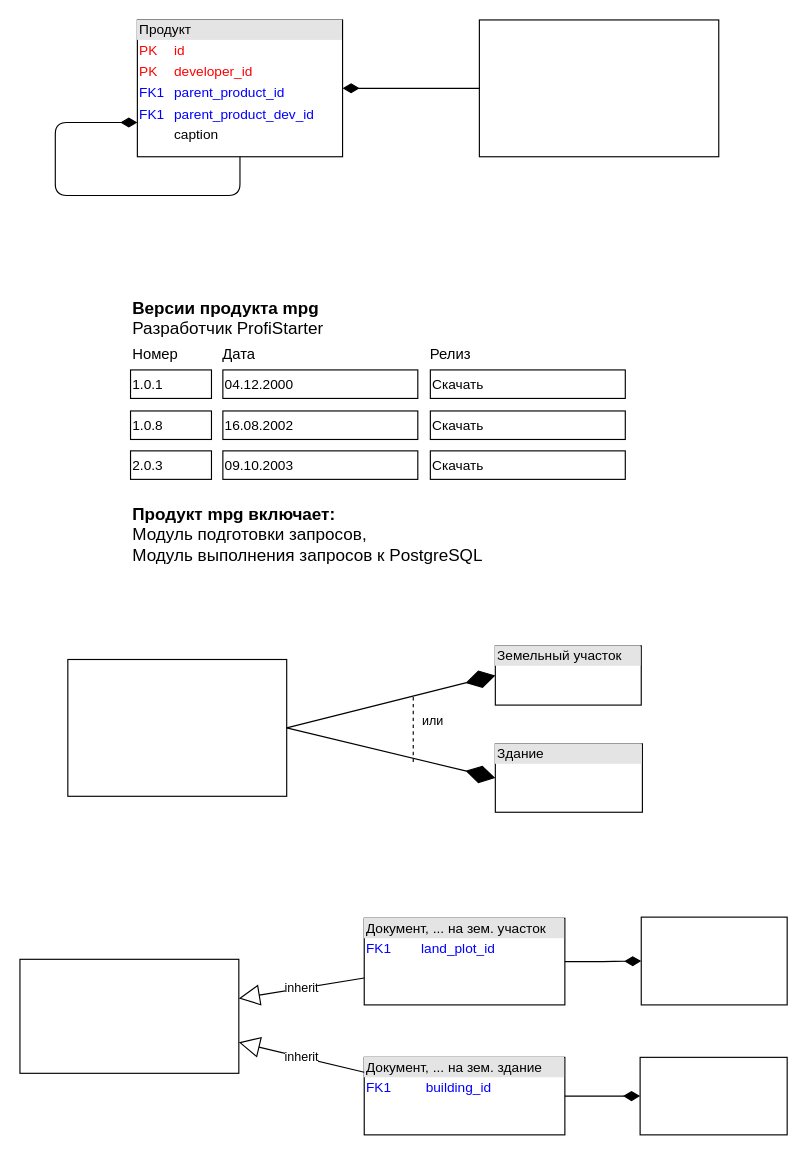
Image size: 807x1155. Some labels were removed from this diagram. Here are the shapes that lost their labels. From the top down, the centre of each, then its label:
(x=598, y=88): Версия PK id PK (FK1) product_id PK (FK1) developer_id date reelease
(x=177, y=727): Документ, удостоверяющий право собственности
(x=713, y=960): Земельный участок PK id
(x=129, y=1015): Документ, удостоверяющий право собственности PK id number date owner
(x=713, y=1095): Здание PK id
